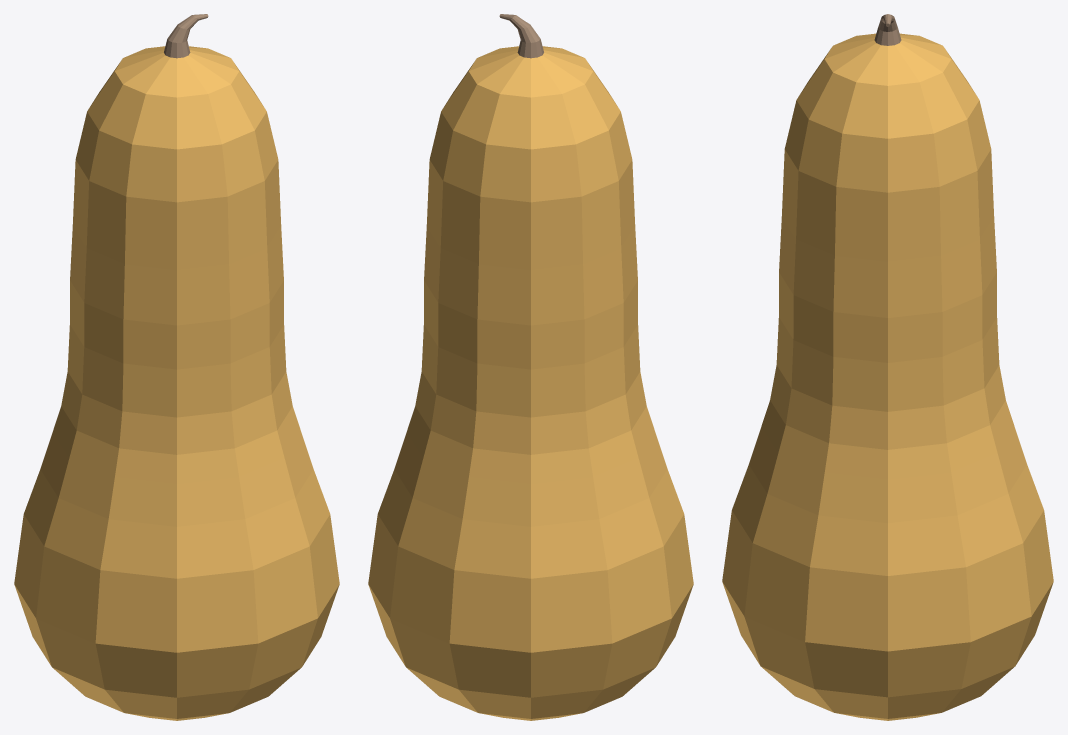
Rendered from butternut.fbx.
3 renders of one model, left to right at view 1: azimuth 30°, elevation 25°; view 2: azimuth 150°, elevation 25°; view 3: azimuth 270°, elevation 25°, orthographic.
Visible parts, largest first — view 1: butternut; view 2: butternut; view 3: butternut.
Boxes of the visible parts, x1=… form: butternut: x1=14, y1=14, x2=339, y2=720; butternut: x1=368, y1=14, x2=693, y2=720; butternut: x1=722, y1=14, x2=1053, y2=720.
Bounding box in the file's own units: 83.29 × 194 × 83.29.
